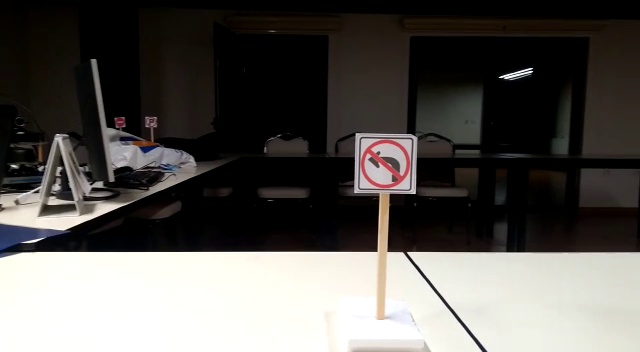sola_donulmez: (356, 138, 412, 189)
